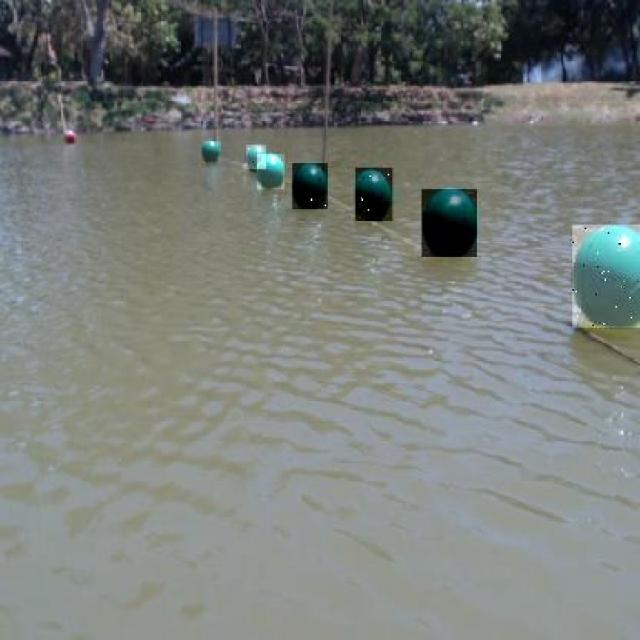green_ball: (571, 223, 640, 326), (424, 186, 477, 257), (356, 169, 390, 218), (293, 162, 328, 208), (257, 154, 285, 189), (246, 143, 266, 172), (201, 140, 219, 162)
red_ball: (64, 130, 76, 144)
